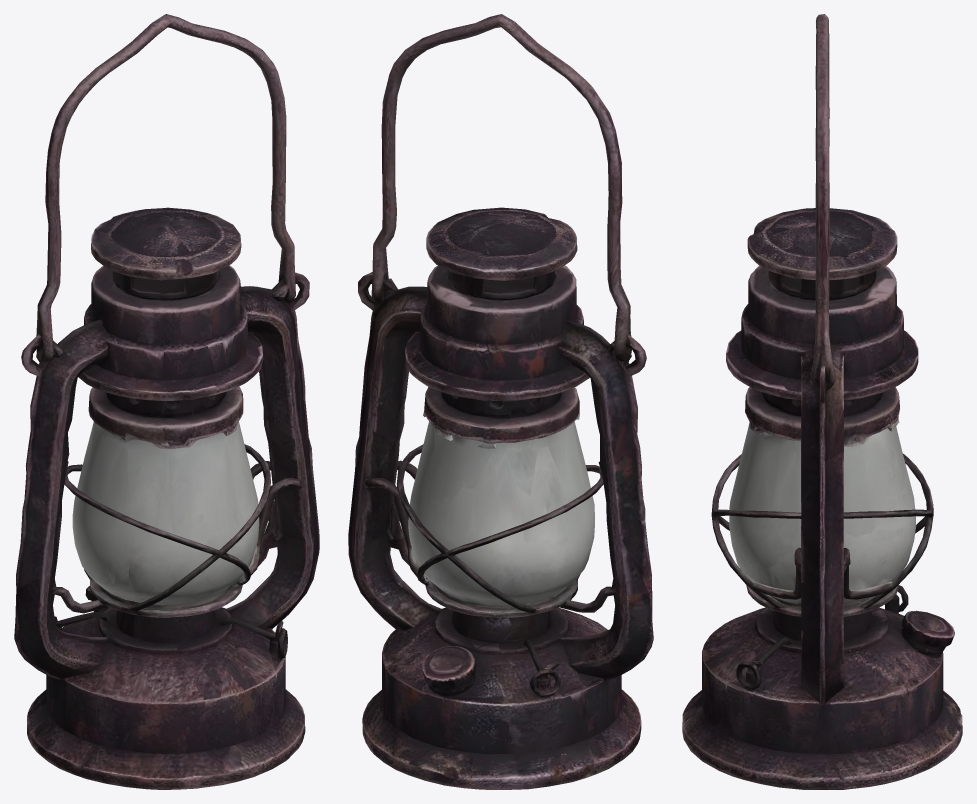
Rendered from mine_lantern_idle.glb.
3 views of the same model, side by side, from view 1: azimuth 30°, elevation 25°; view 2: azimuth 150°, elevation 25°; view 3: azimuth 270°, elevation 25° (orthographic).
Visible parts, largest first — view 1: tripo_node_370df029-b692-4fea-b937-14191b60e46d; view 2: tripo_node_370df029-b692-4fea-b937-14191b60e46d; view 3: tripo_node_370df029-b692-4fea-b937-14191b60e46d.
Boxes of the visible parts, bbox=[...] form: tripo_node_370df029-b692-4fea-b937-14191b60e46d: bbox=[14, 14, 319, 789]; tripo_node_370df029-b692-4fea-b937-14191b60e46d: bbox=[348, 14, 653, 789]; tripo_node_370df029-b692-4fea-b937-14191b60e46d: bbox=[682, 14, 962, 789].
Size of the model in its own units: 0.1554 by 0.35 by 0.1238.
1 material, 1 textured.
